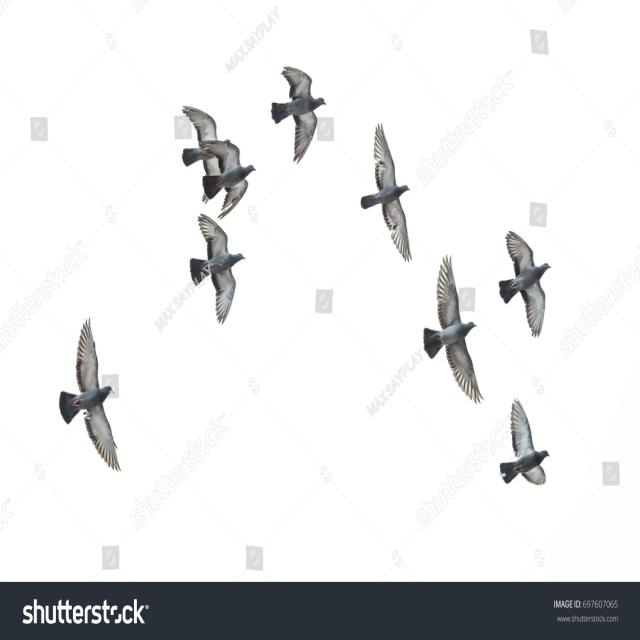bird: (59, 311, 125, 475), (421, 247, 482, 402), (361, 118, 414, 260), (190, 211, 248, 327), (500, 228, 552, 338), (272, 70, 329, 164), (500, 395, 554, 490), (188, 161, 260, 216), (176, 102, 227, 151)
